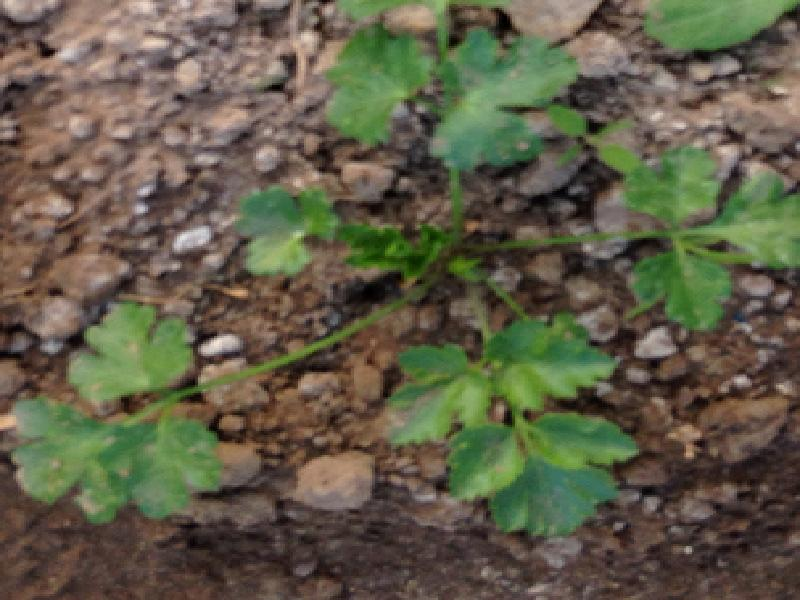radish: (0, 0, 682, 585)
